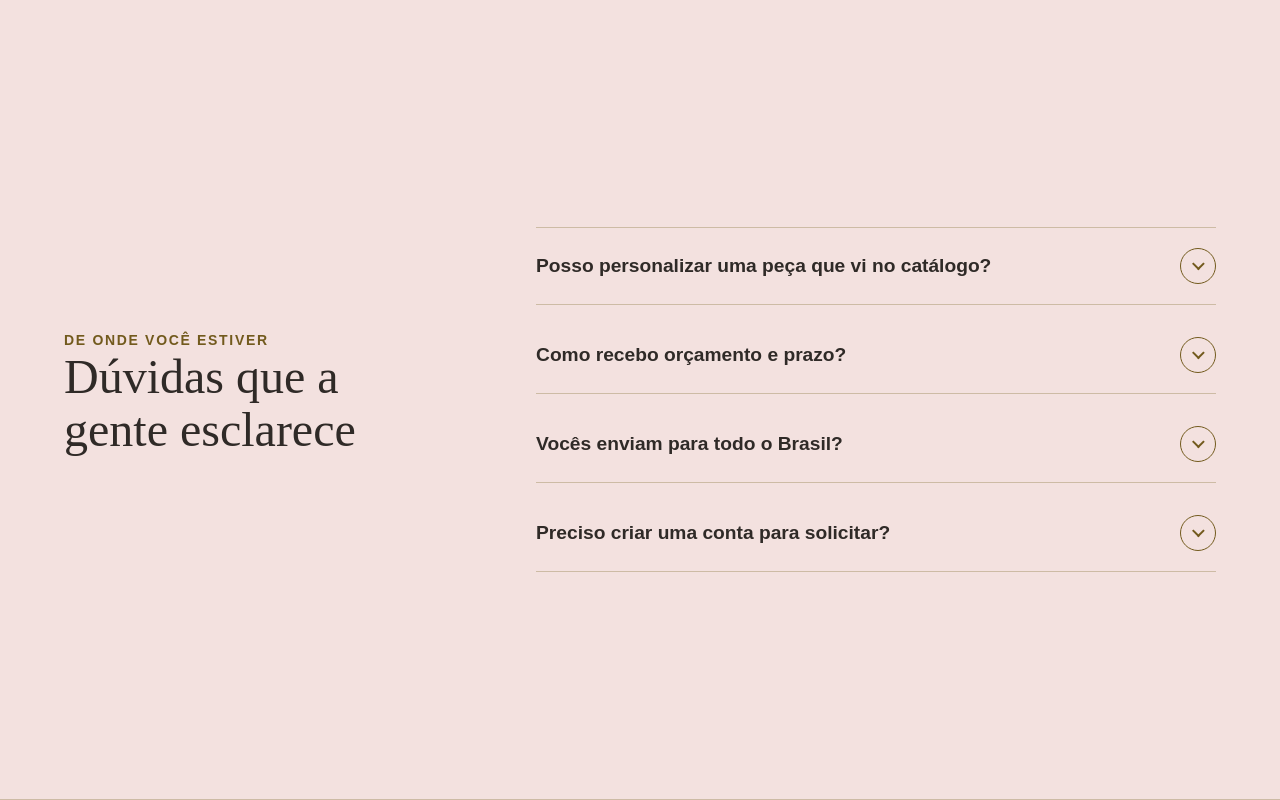
Test: HomeFaq › expande uma resposta ao escolher uma pergunta
Click the button "Posso personalizar uma peça que vi no catálogo?".
click(876, 266)  # box [536,228,1216,304]
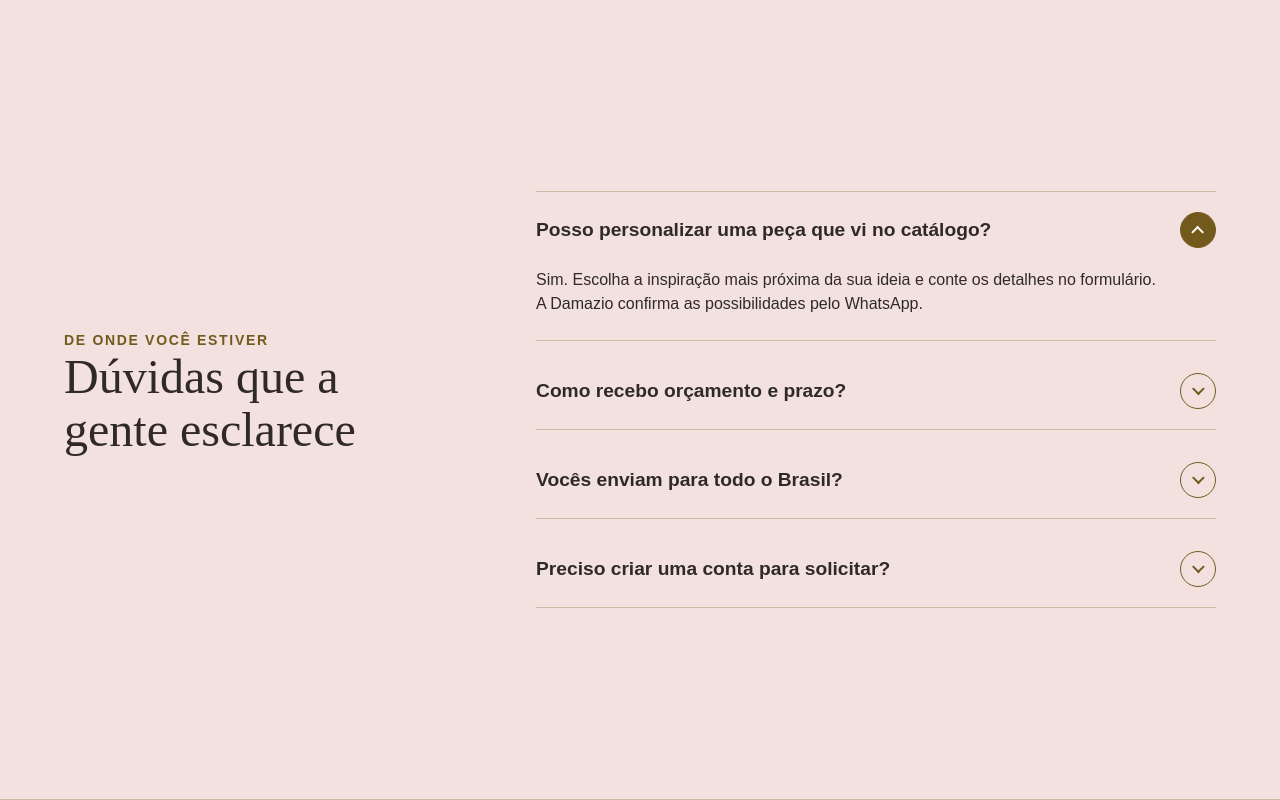
Now the button "Posso personalizar uma peça que vi no catálogo?" is expanded, box [536,192,1216,268]
Now the text "Escolha a inspiração mais próxima" is shown, box [536,271,1156,312]
